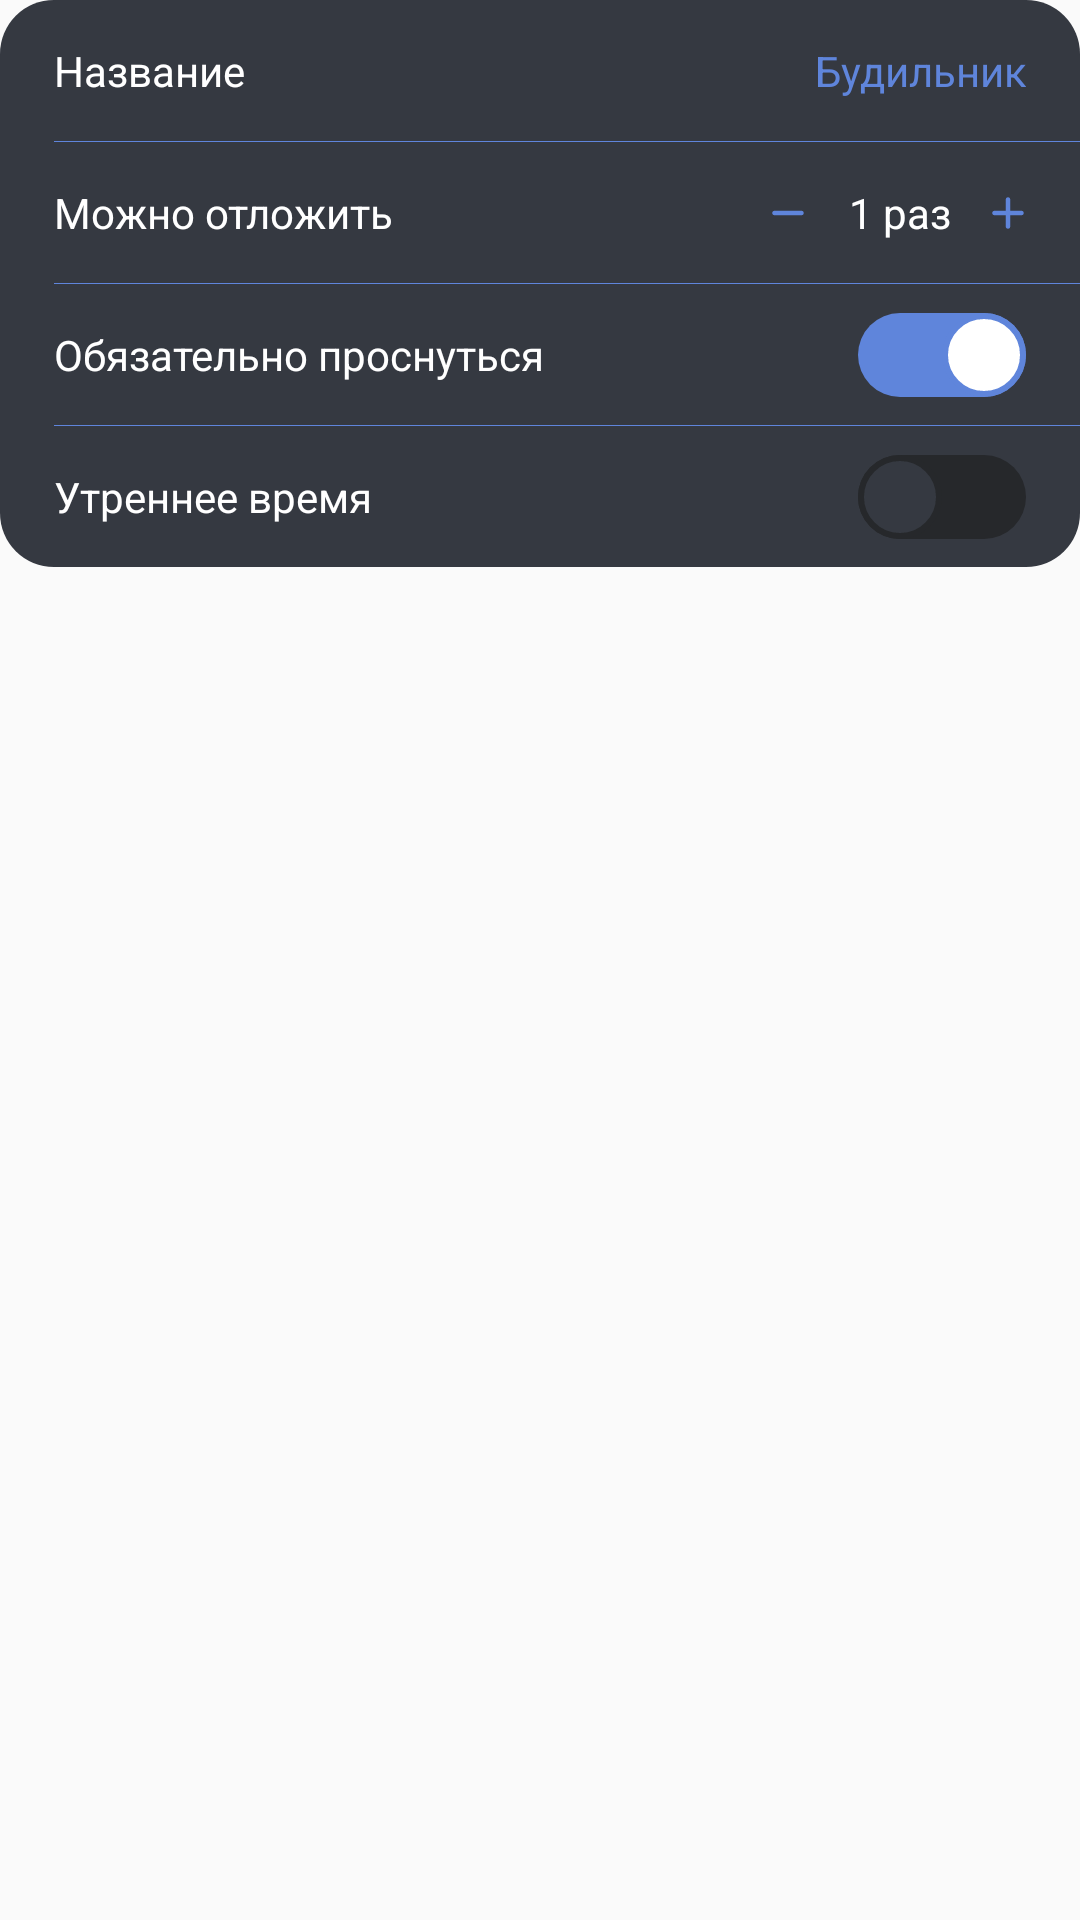

Icons on this 1080x1920 Android screen, each with its box as (x1, y1, x2, y2):
minus: (772, 210, 804, 216)
plus: (992, 197, 1024, 229)
